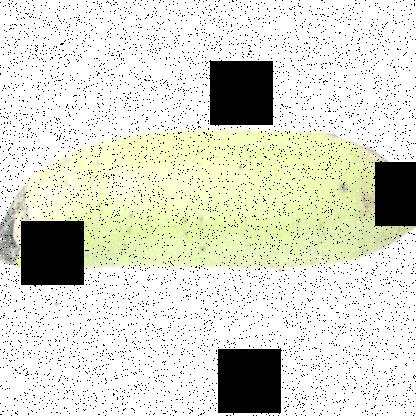unripe: (28, 103, 416, 305)
